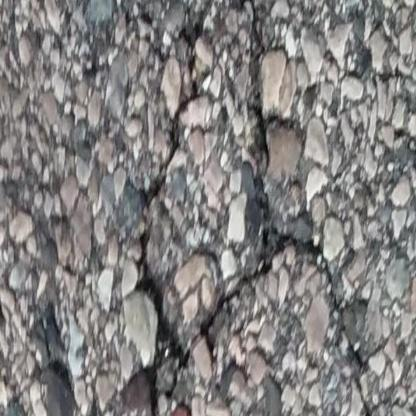Cracks: (131, 0, 391, 416)
